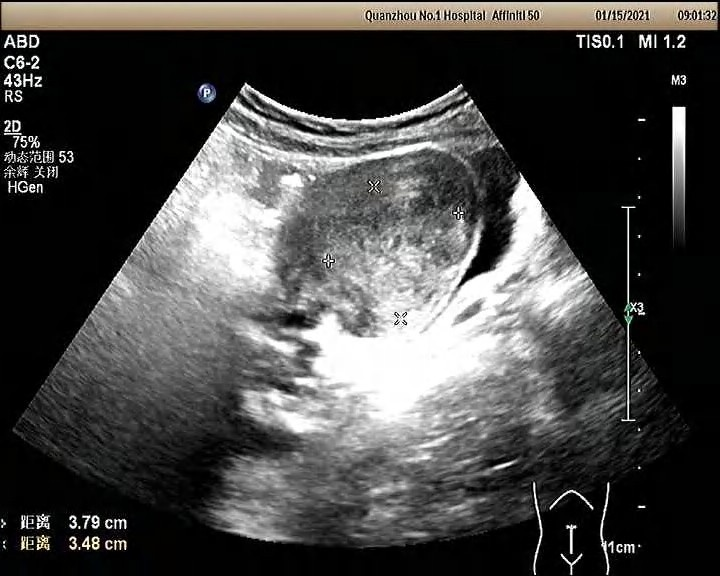肌瘤: (320, 183, 464, 324)
